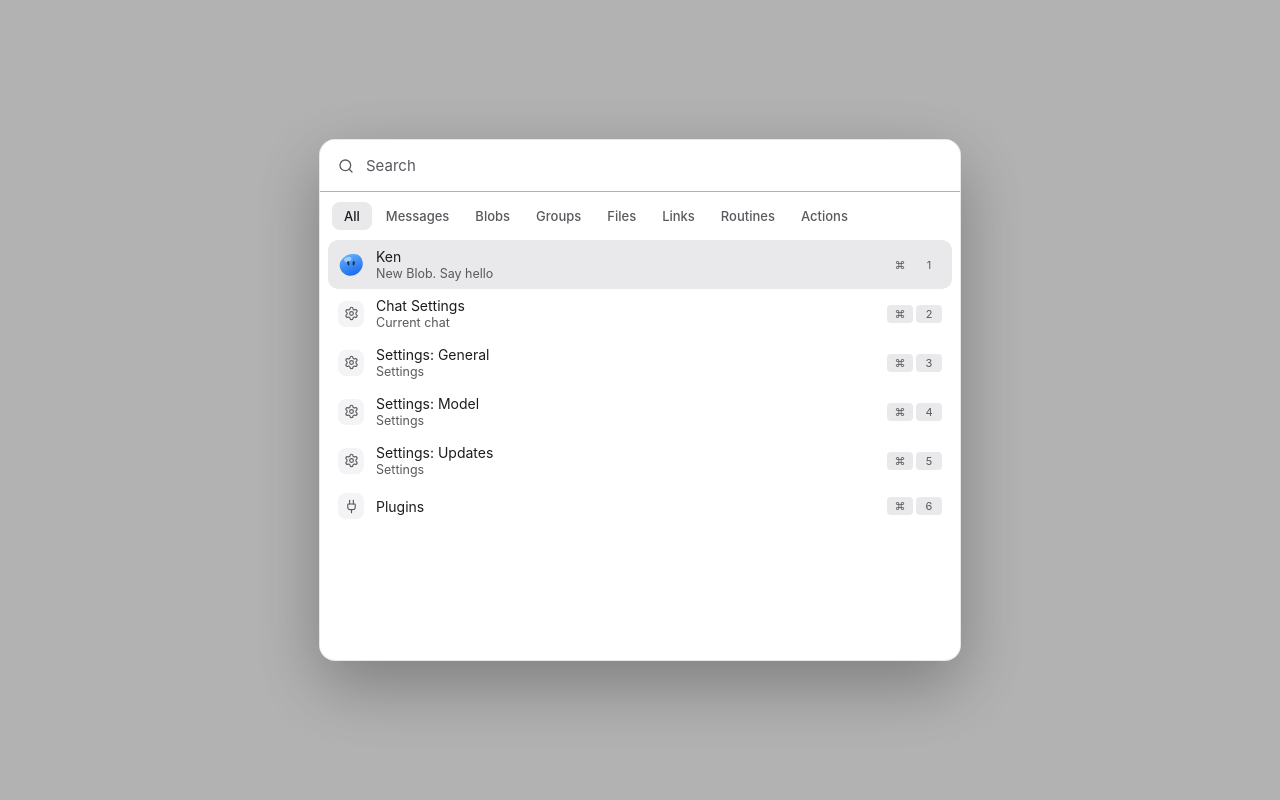
SearchModal › keeps typing in the field after a tab is clicked
Click the button "Files" at (622, 216), box [595,202,648,230]
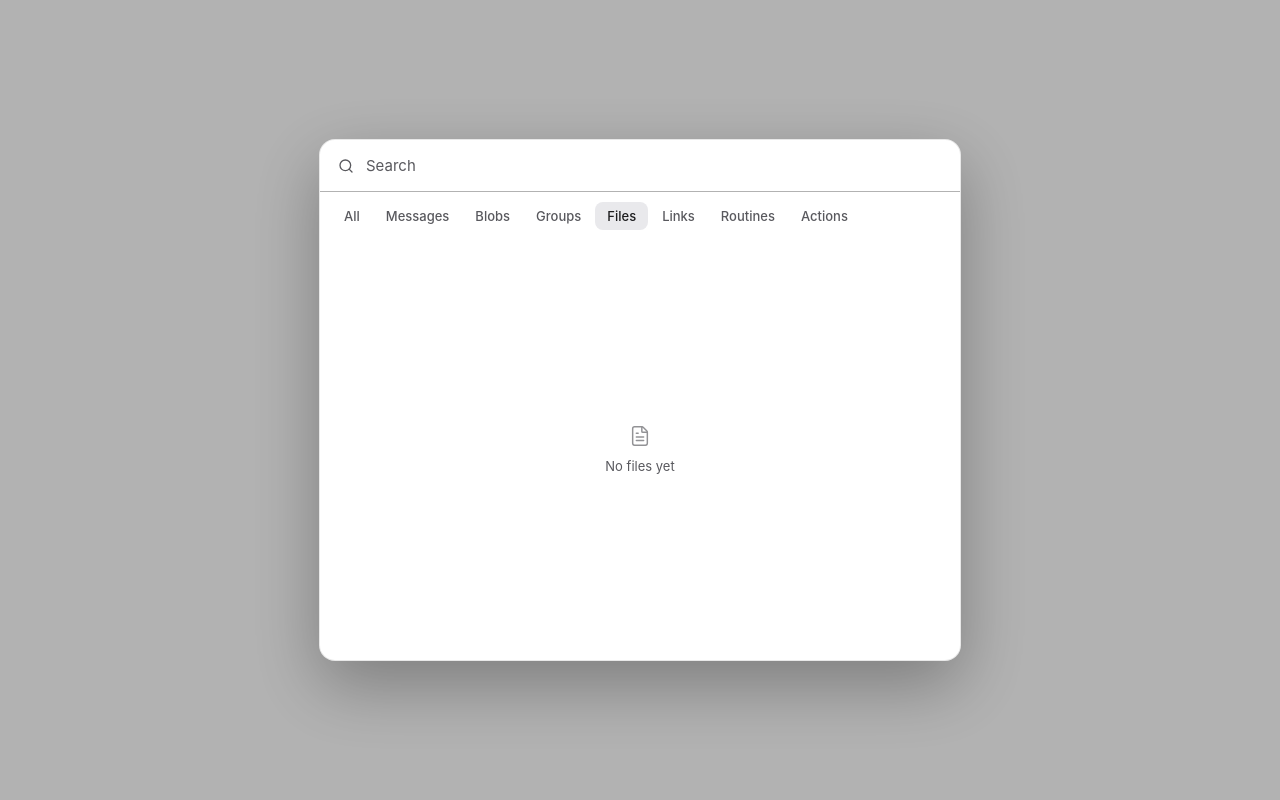
Type keys "ken"
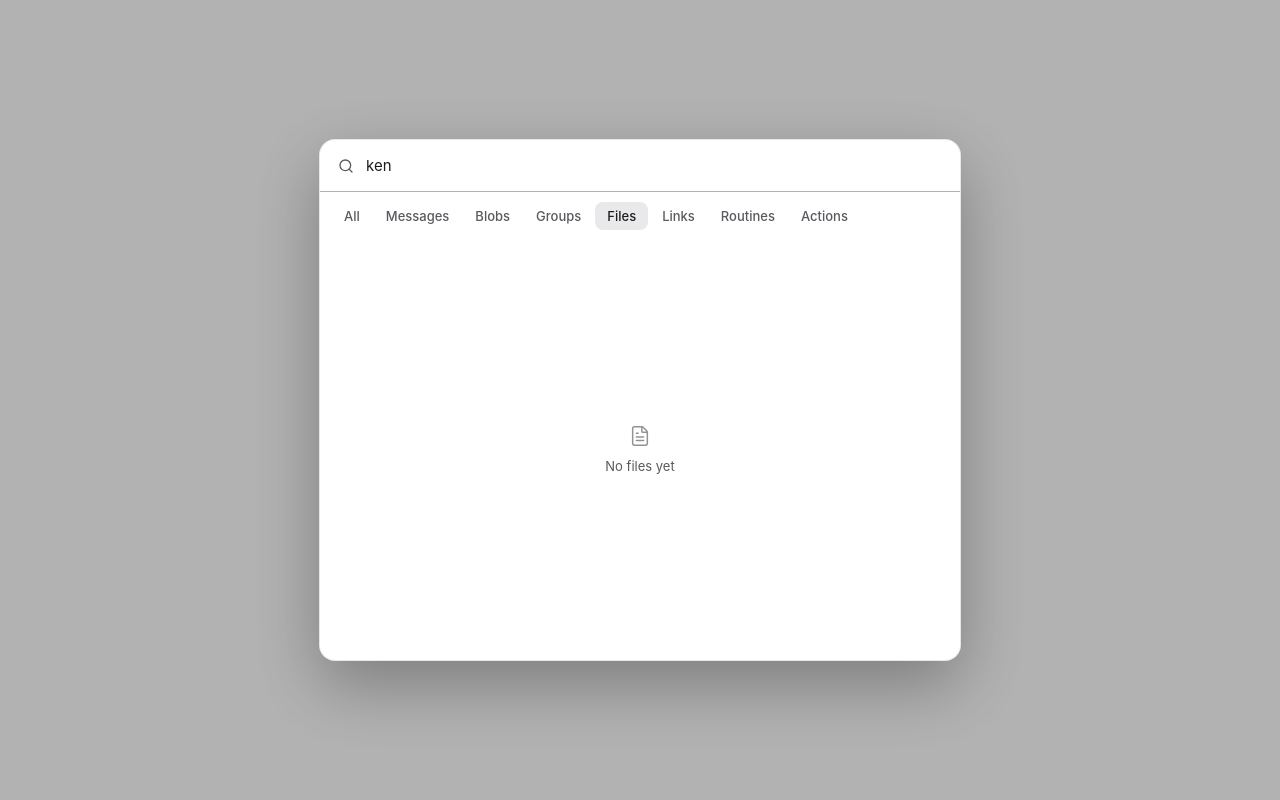
Result: the field named "Search" holds "ken" at [364,155,942,176]
